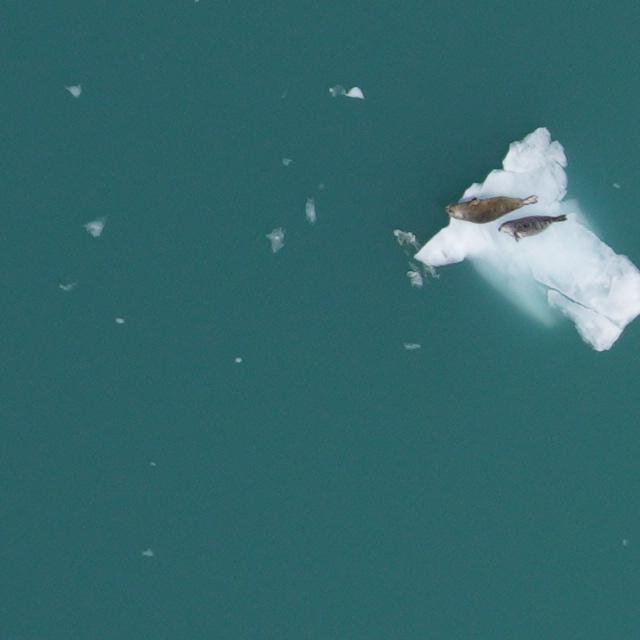seal: (495, 198, 570, 251), (443, 189, 540, 229)
